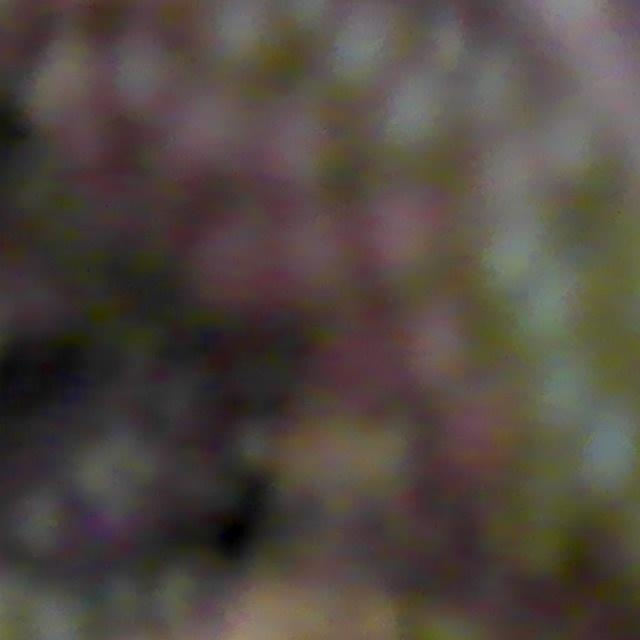SeaGrape: (250, 212, 367, 312), (418, 395, 518, 512), (34, 49, 117, 162), (172, 216, 259, 320), (363, 204, 463, 291), (271, 112, 354, 195), (367, 312, 450, 391), (172, 103, 247, 179), (126, 54, 201, 125), (6, 488, 76, 560), (511, 522, 574, 584)
